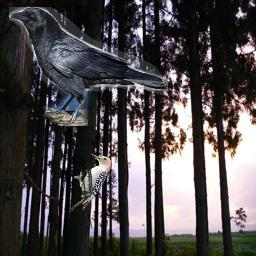Crow: (9, 7, 168, 126)
Woodpecker: (69, 153, 113, 212)
